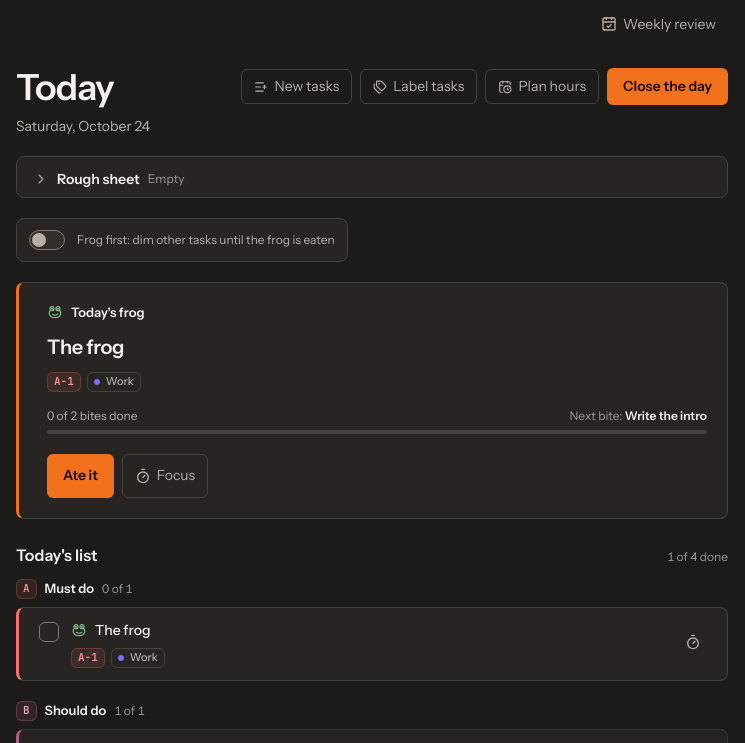
Test: the toggle › is not in the Close-the-day flow, and is back after Cancel
Expected: the heading "Today" is shown, 16,65 -> 114,109
Click the button "Close the day": (668,86) 607,68 -> 728,105
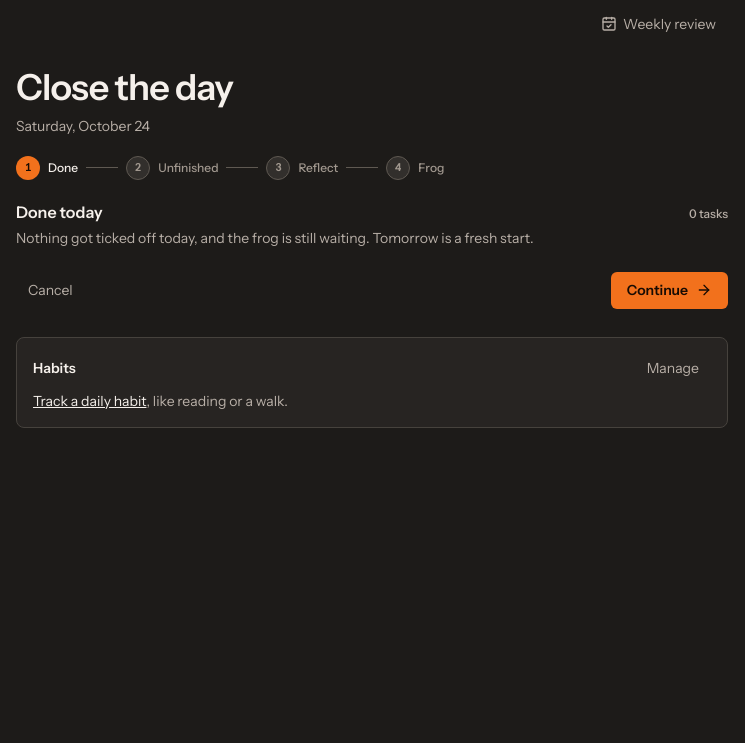
Expected: the switch is gone
Click the button "Cancel": (50,290) 16,274 -> 85,307
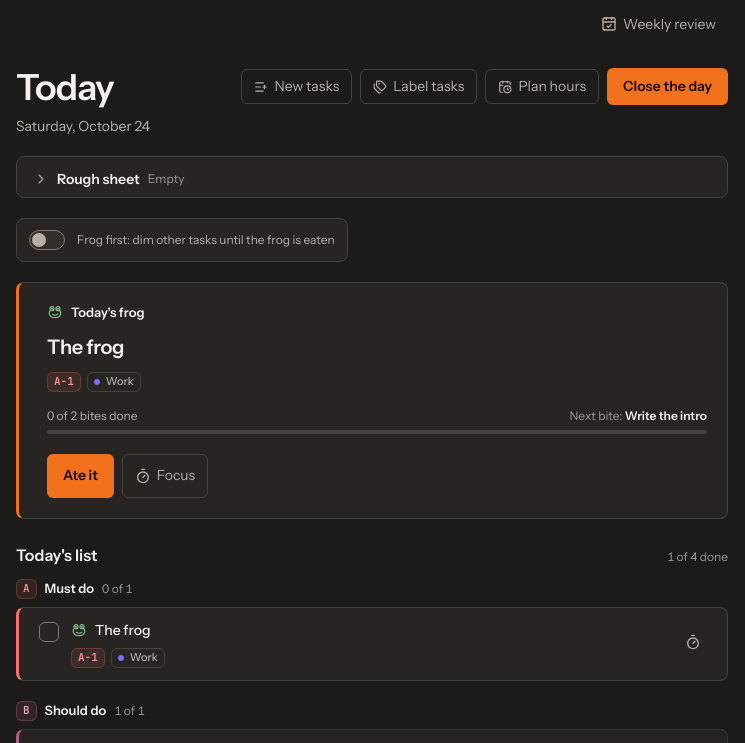
Expected: the switch is shown, 16,218 -> 348,262
